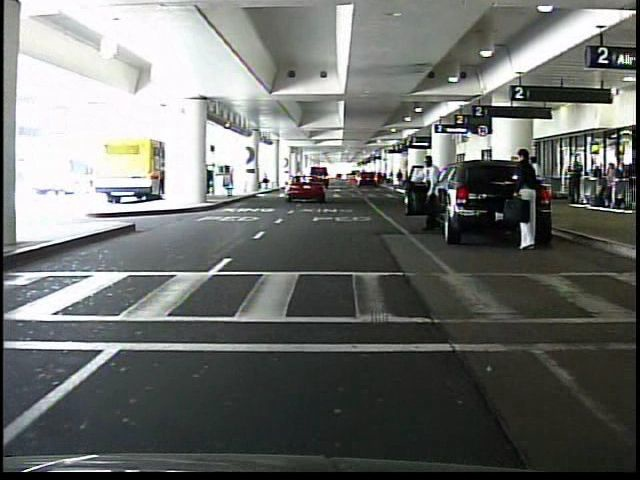person: (511, 149, 548, 256), (420, 155, 444, 236), (521, 154, 542, 215), (568, 158, 582, 205), (396, 169, 405, 188)
